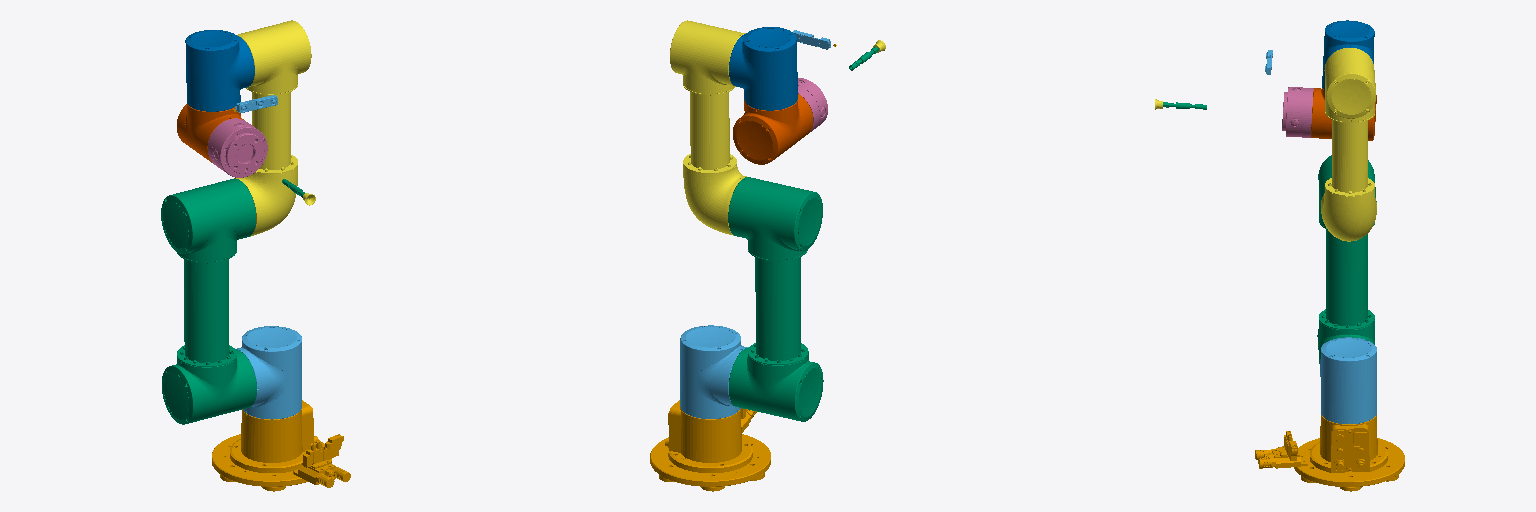
URDF robot description (robot):
<?xml version="1.0" encoding="UTF-8"?>
<robot name="robot">
  <link name="base_link">
    <inertial>
      <mass value="2.20300431"/>
      <origin xyz="-0.00075718 -0.00579318 0.02097621" rpy="0 0 0"/>
      <inertia ixx="0.0052382" ixy="0.00029915" ixz="-0.00006265" iyy="0.00414169" iyz="-0.00004481" izz="0.00620248"/>
    </inertial>
    <visual>
      <origin xyz="0 0 0" rpy="0 0 0"/>
      <geometry>
        <mesh filename="meshes/base_link.stl"/>
      </geometry>
    </visual>
    <collision>
      <origin xyz="0 0 0" rpy="0 0 0"/>
      <geometry>
        <mesh filename="meshes/base_link.stl"/>
      </geometry>
    </collision>
  </link>
  <link name="Link_1">
    <inertial>
      <mass value="1.97808326"/>
      <origin xyz="-0.00012939 0.00410275 0.05430834" rpy="0 0 0"/>
      <inertia ixx="0.00330854" ixy="0.00000483" ixz="0.0000013" iyy="0.00315553" iyz="-0.00004123" izz="0.00227357"/>
    </inertial>
    <visual>
      <origin xyz="0 0 0" rpy="0 0 0"/>
      <geometry>
        <mesh filename="meshes/Link_1.stl"/>
      </geometry>
    </visual>
    <collision>
      <origin xyz="0 0 0" rpy="0 0 0"/>
      <geometry>
        <mesh filename="meshes/Link_1.stl"/>
      </geometry>
    </collision>
  </link>
  <link name="Link_2">
    <inertial>
      <mass value="5.55740548"/>
      <origin xyz="0.00070474 -0.13999825 0.05571775" rpy="0 0 0"/>
      <inertia ixx="0.08480413" ixy="0.00039053" ixz="-1e-8" iyy="0.00729394" iyz="0" izz="0.08270865"/>
    </inertial>
    <visual>
      <origin xyz="0 0 0" rpy="0 0 0"/>
      <geometry>
        <mesh filename="meshes/Link_2.stl"/>
      </geometry>
    </visual>
    <collision>
      <origin xyz="0 0 0" rpy="0 0 0"/>
      <geometry>
        <mesh filename="meshes/Link_2.stl"/>
      </geometry>
    </collision>
  </link>
  <link name="Link_3">
    <inertial>
      <mass value="3.65203973"/>
      <origin xyz="0.00063491 0.12701927 0.04898885" rpy="0 0 0"/>
      <inertia ixx="0.03919009" ixy="-0.00018067" ixz="-0.00000594" iyy="0.0035353" iyz="-0.00117296" izz="0.03846256"/>
    </inertial>
    <visual>
      <origin xyz="0 0 0" rpy="0 0 0"/>
      <geometry>
        <mesh filename="meshes/Link_3.stl"/>
      </geometry>
    </visual>
    <collision>
      <origin xyz="0 0 0" rpy="0 0 0"/>
      <geometry>
        <mesh filename="meshes/Link_3.stl"/>
      </geometry>
    </collision>
  </link>
  <link name="Link_4">
    <inertial>
      <mass value="1.39209628"/>
      <origin xyz="-0.00020571 0.00456593 0.04442593" rpy="0 0 0"/>
      <inertia ixx="0.00183841" ixy="0.00002534" ixz="0.00000111" iyy="0.00127508" iyz="-0.00002545" izz="0.00174529"/>
    </inertial>
    <visual>
      <origin xyz="0 0 0" rpy="0 0 0"/>
      <geometry>
        <mesh filename="meshes/Link_4.stl"/>
      </geometry>
    </visual>
    <collision>
      <origin xyz="0 0 0" rpy="0 0 0"/>
      <geometry>
        <mesh filename="meshes/Link_4.stl"/>
      </geometry>
    </collision>
  </link>
  <link name="Link_5">
    <inertial>
      <mass value="1.39209675"/>
      <origin xyz="0.00456765 0.00016298 0.04442595" rpy="0 0 0"/>
      <inertia ixx="0.00127466" ixy="-0.00002006" ixz="-0.00002546" iyy="0.00183884" iyz="-8.7e-7" izz="0.00174529"/>
    </inertial>
    <visual>
      <origin xyz="0 0 0" rpy="0 0 0"/>
      <geometry>
        <mesh filename="meshes/Link_5.stl"/>
      </geometry>
    </visual>
    <collision>
      <origin xyz="0 0 0" rpy="0 0 0"/>
      <geometry>
        <mesh filename="meshes/Link_5.stl"/>
      </geometry>
    </collision>
  </link>
  <link name="Link_6">
    <inertial>
      <mass value="0.48550888"/>
      <origin xyz="-0.00006762 0.00007782 0.02415418" rpy="0 0 0"/>
      <inertia ixx="0.00025974" ixy="0" ixz="5.2e-7" iyy="0.00025943" iyz="-1.3e-7" izz="0.00038381"/>
    </inertial>
    <visual>
      <origin xyz="0 0 0" rpy="0 0 0"/>
      <geometry>
        <mesh filename="meshes/Link_6.stl"/>
      </geometry>
    </visual>
    <collision>
      <origin xyz="0 0 0" rpy="0 0 0"/>
      <geometry>
        <mesh filename="meshes/Link_6.stl"/>
      </geometry>
    </collision>
  </link>
  <link name="tool_link">
    <inertial>
      <mass value="0.3191529"/>
      <origin xyz="-0.02845165 -0.00175477 0.0947566" rpy="0 0 0"/>
      <inertia ixx="0.00077778" ixy="-0.00000232" ixz="-0.00030384" iyy="0.00122026" iyz="0.00003438" izz="0.00067642"/>
    </inertial>
    <visual>
      <origin xyz="0 0 0" rpy="0 0 0"/>
      <geometry>
        <mesh filename="meshes/tool_link.stl"/>
      </geometry>
    </visual>
    <collision>
      <origin xyz="0 0 0" rpy="0 0 0"/>
      <geometry>
        <mesh filename="meshes/tool_link.stl"/>
      </geometry>
    </collision>
  </link>
  <link name="rgb_camera">
    <inertial>
      <mass value="0.00006301"/>
      <origin xyz="-0.08837367 -0.0322934 0.0762239" rpy="0 0 0"/>
      <inertia ixx="0" ixy="0" ixz="0" iyy="0" iyz="0" izz="0"/>
    </inertial>
    <visual>
      <origin xyz="0 0 0" rpy="0 0 0"/>
      <geometry>
        <mesh filename="meshes/rgb_camera.stl"/>
      </geometry>
    </visual>
    <collision>
      <origin xyz="0 0 0" rpy="0 0 0"/>
      <geometry>
        <mesh filename="meshes/rgb_camera.stl"/>
      </geometry>
    </collision>
  </link>
  <link name="IR_module_link">
    <inertial>
      <mass value="0.00864575"/>
      <origin xyz="-0.08816436 0.00828648 0.07304968" rpy="0 0 0"/>
      <inertia ixx="0.00000375" ixy="0" ixz="0" iyy="2e-7" iyz="-1e-8" izz="0.00000381"/>
    </inertial>
    <visual>
      <origin xyz="0 0 0" rpy="0 0 0"/>
      <geometry>
        <mesh filename="meshes/IR_module_link.stl"/>
      </geometry>
    </visual>
    <collision>
      <origin xyz="0 0 0" rpy="0 0 0"/>
      <geometry>
        <mesh filename="meshes/IR_module_link.stl"/>
      </geometry>
    </collision>
  </link>
  <link name="tube_link">
    <inertial>
      <mass value="0.00868863"/>
      <origin xyz="0.0002833 1e-8 -0.20525463" rpy="0 0 0"/>
      <inertia ixx="0.0000032" ixy="0" ixz="0" iyy="0.0000032" iyz="0" izz="9e-8"/>
    </inertial>
    <visual>
      <origin xyz="0 0 0" rpy="0 0 0"/>
      <geometry>
        <mesh filename="meshes/tube_link.stl"/>
      </geometry>
    </visual>
    <collision>
      <origin xyz="0 0 0" rpy="0 0 0"/>
      <geometry>
        <mesh filename="meshes/tube_link.stl"/>
      </geometry>
    </collision>
  </link>
  <link name="suction_link">
    <inertial>
      <mass value="0.00321501"/>
      <origin xyz="0.00033911 0 -0.24569152" rpy="0 0 0"/>
      <inertia ixx="8e-8" ixy="0" ixz="0" iyy="8e-8" iyz="0" izz="9e-8"/>
    </inertial>
    <visual>
      <origin xyz="0 0 0" rpy="0 0 0"/>
      <geometry>
        <mesh filename="meshes/suction_link.stl"/>
      </geometry>
    </visual>
    <collision>
      <origin xyz="0 0 0" rpy="0 0 0"/>
      <geometry>
        <mesh filename="meshes/suction_link.stl"/>
      </geometry>
    </collision>
  </link>
  <joint name="Joint_1" type="revolute">
    <parent link="base_link"/>
    <child link="Link_1"/>
    <origin xyz="-0.00320001 0 0.0807" rpy="0 0 1.57079633"/>
    <axis xyz="0 0 1"/>
    <limit lower="-3.14159" upper="3.14159" effort="10" velocity="1"/>
  </joint>
  <joint name="Joint_2" type="revolute">
    <parent link="Link_1"/>
    <child link="Link_2"/>
    <origin xyz="-0.00173444 0.05447238 0.0592" rpy="-1.57079633 0 0.03183031"/>
    <axis xyz="0 0 1"/>
    <limit lower="-3.14159" upper="3.14159" effort="10" velocity="1"/>
  </joint>
  <joint name="Joint_3" type="revolute">
    <parent link="Link_2"/>
    <child link="Link_3"/>
    <origin xyz="0.00140859 -0.27999646 0" rpy="3.14159265 0 0"/>
    <axis xyz="0 0 1"/>
    <limit lower="-3.14159" upper="3.14159" effort="10" velocity="1"/>
  </joint>
  <joint name="Joint_4" type="revolute">
    <parent link="Link_3"/>
    <child link="Link_4"/>
    <origin xyz="0.00120735 0.23999698 0.00099749" rpy="-3.14159265 0 0"/>
    <axis xyz="0 0 1"/>
    <limit lower="-3.14159" upper="3.14159" effort="10" velocity="1"/>
  </joint>
  <joint name="Joint_5" type="revolute">
    <parent link="Link_4"/>
    <child link="Link_5"/>
    <origin xyz="-0.00240646 0.05364856 0.0482975" rpy="1.57079633 -0.03179836 -3.09676596"/>
    <axis xyz="0 0 1"/>
    <limit lower="-3.14159" upper="3.14159" effort="10" velocity="1"/>
  </joint>
  <joint name="Joint_6" type="revolute">
    <parent link="Link_5"/>
    <child link="Link_6"/>
    <origin xyz="0.05246447 0.00186142 0.0482975" rpy="-3.10612756 -1.56941526 0"/>
    <axis xyz="0 0 1"/>
    <limit lower="-3.14159" upper="3.14159" effort="10" velocity="1"/>
  </joint>
  <joint name="tool_joint" type="fixed">
    <parent link="Link_6"/>
    <child link="tool_link"/>
    <origin xyz="0 0 0" rpy="0 0 0"/>
    <axis xyz="0 0 1"/>
  </joint>
  <joint name="rgb_camera_joint" type="fixed">
    <parent link="tool_link"/>
    <child link="rgb_camera"/>
    <origin xyz="0 0 0" rpy="0 0 0"/>
    <axis xyz="0 0 1"/>
  </joint>
  <joint name="IR_module_joint" type="fixed">
    <parent link="tool_link"/>
    <child link="IR_module_link"/>
    <origin xyz="0 0 0" rpy="0 0 0"/>
    <axis xyz="0 0 1"/>
  </joint>
  <joint name="tube_joint" type="prismatic">
    <parent link="tool_link"/>
    <child link="tube_link"/>
    <origin xyz="0 0 0" rpy="3.14159265 0 0"/>
    <axis xyz="0 0 1"/>
    <limit lower="0" upper="0.03" effort="100" velocity="0.1"/>
  </joint>
  <joint name="suction_joint" type="fixed">
    <parent link="tube_link"/>
    <child link="suction_link"/>
    <origin xyz="0 0 0" rpy="0 0 0"/>
    <axis xyz="0 0 1"/>
  </joint>
</robot>

--- Facts derived from the render (not from the file) ---
3 views of the same robot in one strip: view 1: azimuth 30°, elevation 25°; view 2: azimuth 150°, elevation 25°; view 3: azimuth 270°, elevation 25° (orthographic).
Robot: robot — 12 links, 11 joints (6 revolute, 1 prismatic, 4 fixed); root link base_link; default pose: every joint at zero.
Visible links, largest first — view 1: Link_2, Link_3, base_link, Link_4, Link_1, Link_6, Link_5; view 2: Link_2, Link_3, base_link, Link_1, Link_4, Link_5, Link_6; view 3: Link_3, base_link, Link_2, Link_1, Link_4, Link_6, Link_5.
Link boxes in pixels (x1=…): Link_2: x1=161, y1=179, x2=256, y2=424; Link_3: x1=234, y1=20, x2=311, y2=236; base_link: x1=212, y1=400, x2=350, y2=491; Link_4: x1=185, y1=30, x2=254, y2=111; Link_1: x1=237, y1=326, x2=301, y2=419; Link_6: x1=208, y1=118, x2=267, y2=177; Link_5: x1=177, y1=104, x2=243, y2=162; Link_2: x1=728, y1=177, x2=823, y2=421; Link_3: x1=670, y1=20, x2=746, y2=235; base_link: x1=650, y1=400, x2=770, y2=491; Link_1: x1=680, y1=325, x2=748, y2=418; Link_4: x1=729, y1=27, x2=797, y2=110; Link_5: x1=733, y1=94, x2=812, y2=164; Link_6: x1=798, y1=78, x2=827, y2=131; Link_3: x1=1321, y1=48, x2=1376, y2=241; base_link: x1=1255, y1=415, x2=1404, y2=491; Link_2: x1=1317, y1=155, x2=1376, y2=363; Link_1: x1=1320, y1=337, x2=1376, y2=423; Link_4: x1=1322, y1=20, x2=1374, y2=90; Link_6: x1=1282, y1=87, x2=1313, y2=137; Link_5: x1=1311, y1=88, x2=1376, y2=140.
Size in the robot's own frame: 0.2588 by 0.4002 by 0.7273 metres.
11 mesh visuals loaded from 12 distinct referenced files (11 binary STL); not drawn: 1 (reference not matched to a file when rendering).
